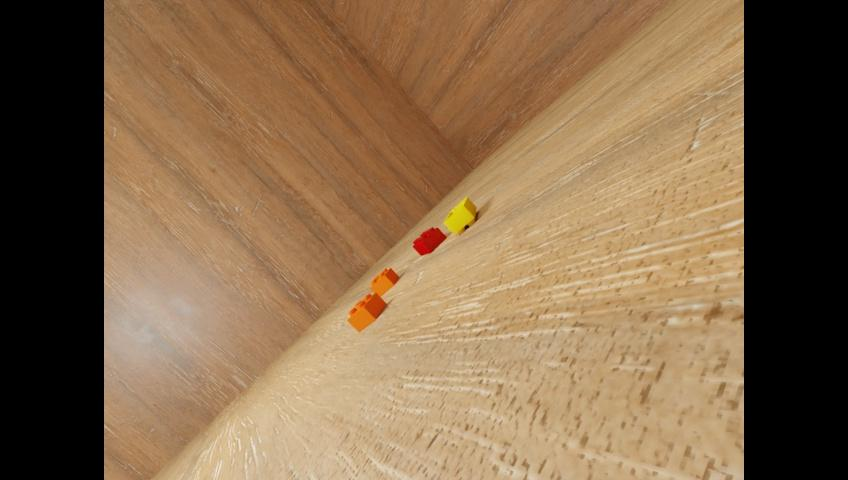2x2_orange: (346, 291, 386, 332), (369, 267, 398, 296)
4x2_red: (412, 226, 446, 255)
4x2_yellow: (443, 196, 476, 234)
